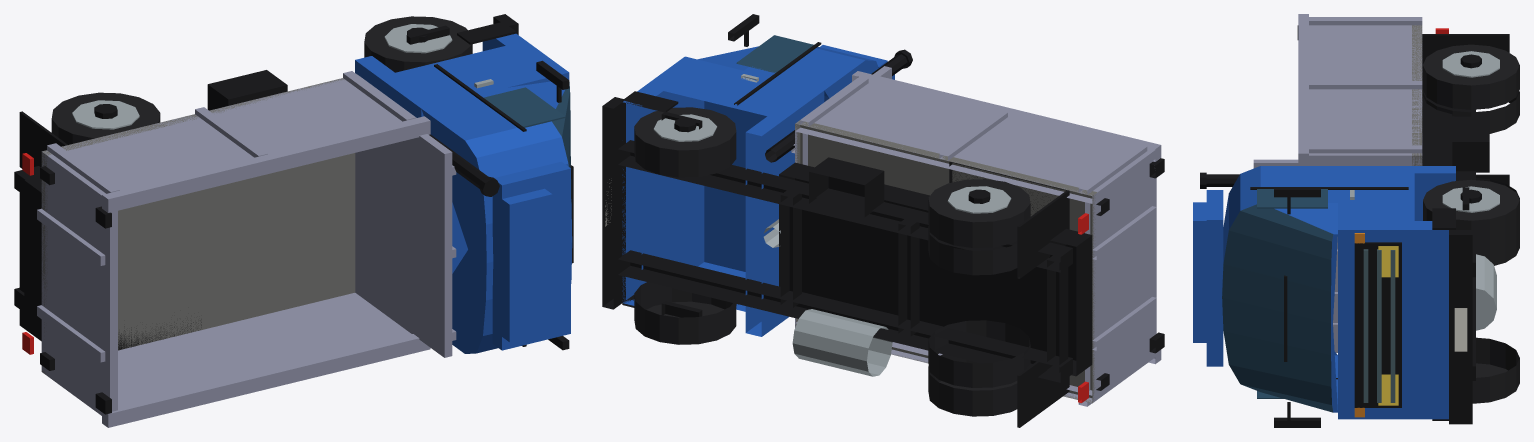
Rendered from empty.glb.
3 views of the same model, side by side, from view 1: azimuth 30°, elevation 25°; view 2: azimuth 150°, elevation 25°; view 3: azimuth 270°, elevation 25° (orthographic). The views are drawn at different scales.
Parts seen in each view (by area): view 1: empty_bed, empty_cab_upper, empty_air_dam_top, empty_headboard, empty_air_dam, empty_cab_arch, empty_front1, empty_rear_out1, empty_subframe, empty_cab_back, empty_battery_box, empty_side_window1 (+5 smaller); view 2: empty_bed, empty_subframe, empty_cab_arch, empty_chassis-1, empty_chassis1, empty_cab_back, empty_front1, empty_cab_front, empty_rear_out1, empty_fuel_tank, empty_bumper, empty_front-1 (+13 smaller); view 3: empty_cab_upper, empty_bed, empty_cab_front, empty_rear_out1, empty_grille, empty_front1, empty_bumper, empty_cab_arch, empty_air_dam, empty_front-1, empty_battery_box, empty_air_dam_top (+21 smaller).
Part boxes in pixels (x1,y1,x2,y2): empty_bed: (37,71,430,427); empty_cab_upper: (421,81,572,353); empty_air_dam_top: (502,188,552,342); empty_headboard: (418,134,452,357); empty_air_dam: (492,161,570,350); empty_cab_arch: (395,46,548,273); empty_front1: (364,16,472,72); empty_rear_out1: (51,92,160,144); empty_subframe: (24,176,41,330); empty_cab_back: (355,56,437,117); empty_battery_box: (207,70,287,110); empty_side_window1: (484,87,565,127); empty_bed: (795,71,1161,406); empty_subframe: (779,162,1092,376); empty_cab_arch: (663,61,807,311); empty_chassis-1: (618,250,1072,382); empty_chassis1: (618,140,1072,272); empty_cab_back: (745,86,824,336); empty_front1: (634,107,736,177); empty_cab_front: (622,56,704,305); empty_rear_out1: (928,179,1030,247); empty_fuel_tank: (792,309,892,376); empty_bumper: (602,97,625,309); empty_front-1: (634,282,736,344); empty_cab_upper: (1222,166,1337,412); empty_bed: (1298,14,1422,352); empty_cab_front: (1338,221,1448,419); empty_rear_out1: (1423,44,1519,109); empty_grille: (1354,242,1401,407); empty_front1: (1423,179,1519,246); empty_bumper: (1449,230,1472,424); empty_cab_arch: (1338,173,1414,220); empty_air_dam: (1206,190,1223,366); empty_front-1: (1472,337,1519,403); empty_battery_box: (1452,116,1489,172); empty_air_dam_top: (1193,202,1206,342).
Bounding box in the file's own units: 7.6 × 3.9 × 4.85.
